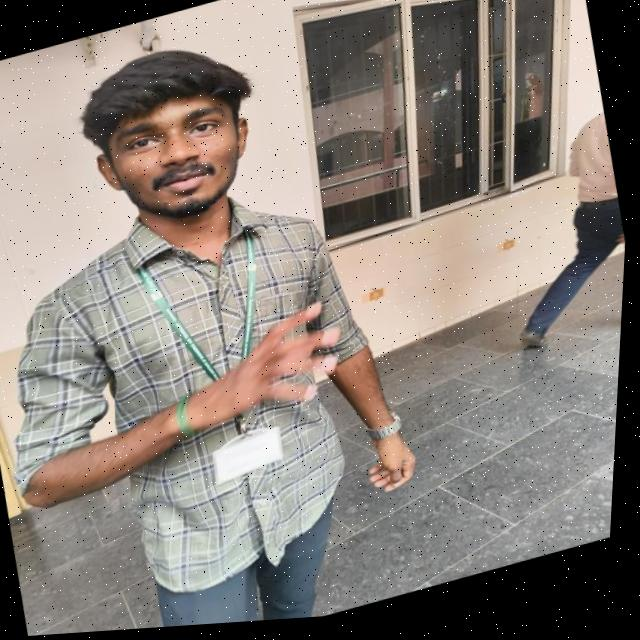id_card: (117, 211, 329, 513)
